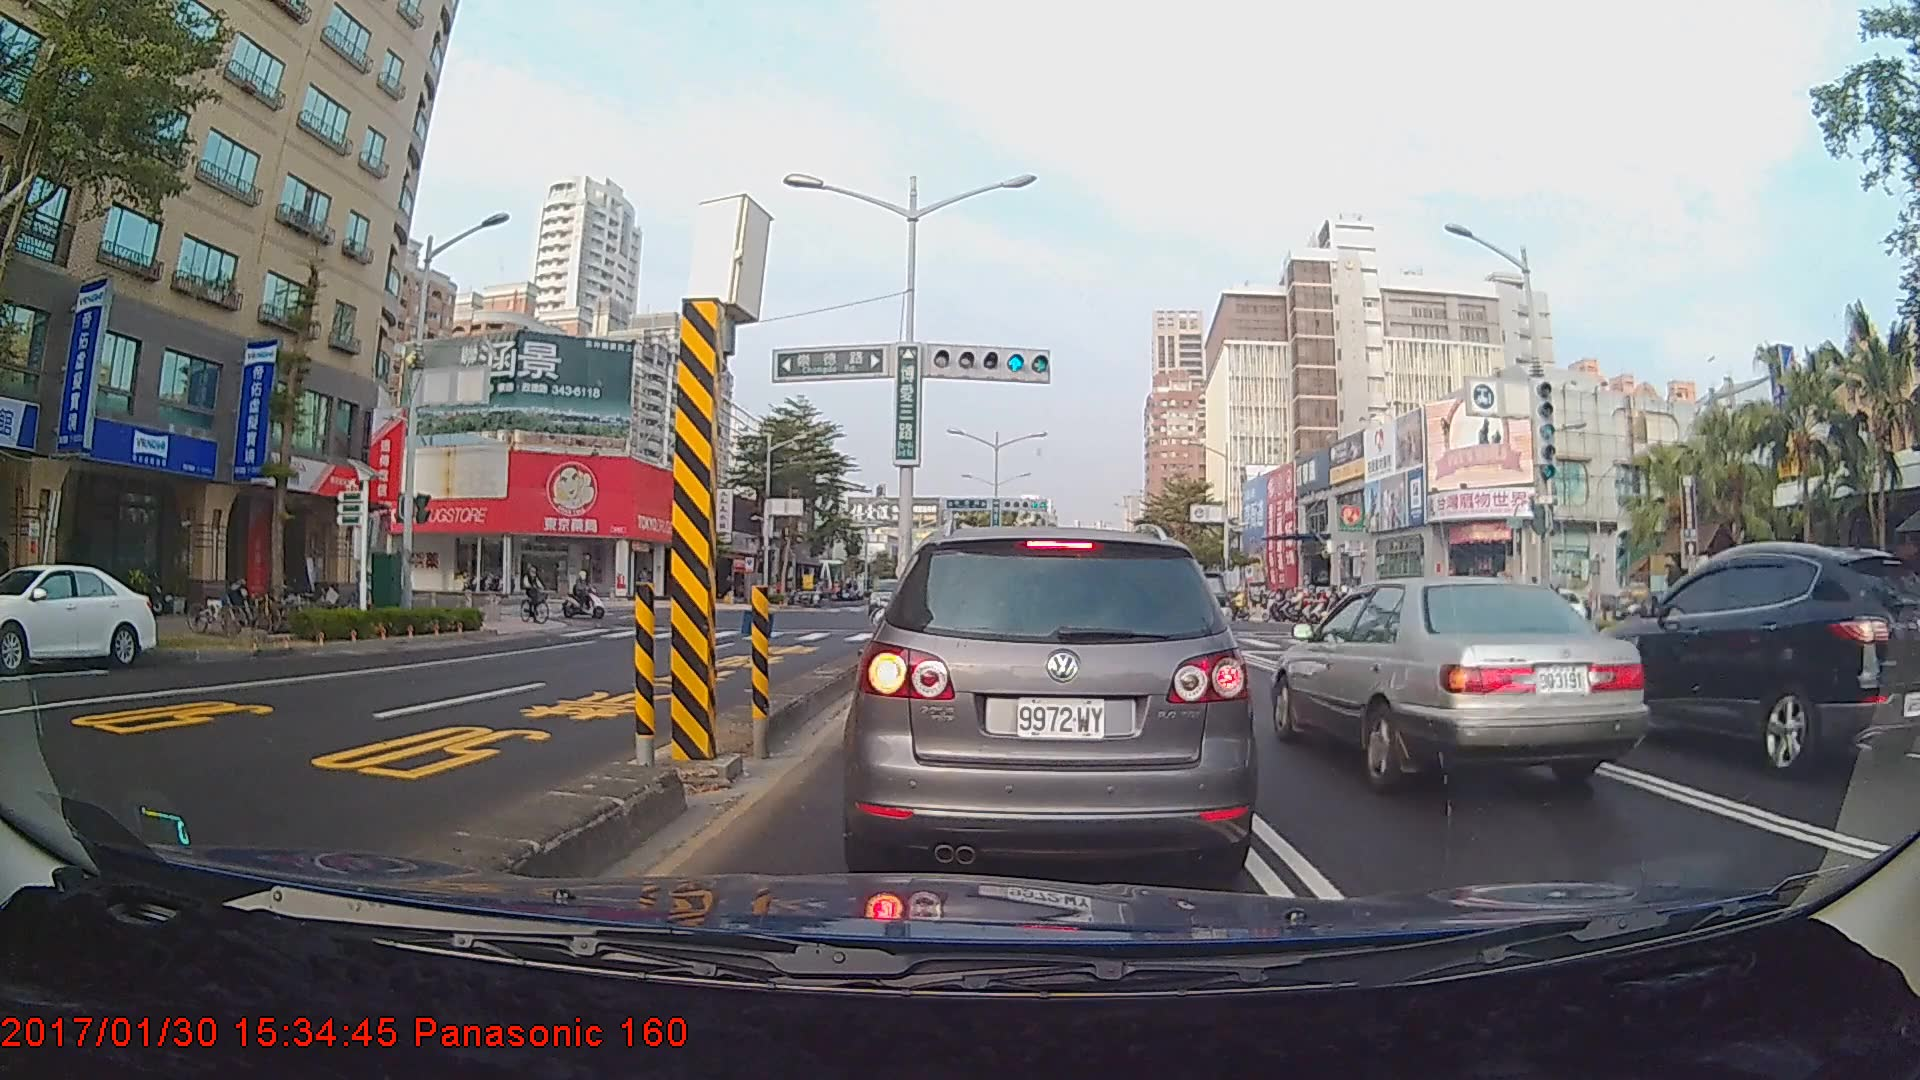rider: (518, 559, 561, 629), (564, 568, 615, 625)
vehicle: (852, 524, 1253, 878), (1265, 573, 1655, 794), (1601, 538, 1920, 779), (0, 561, 161, 671)
